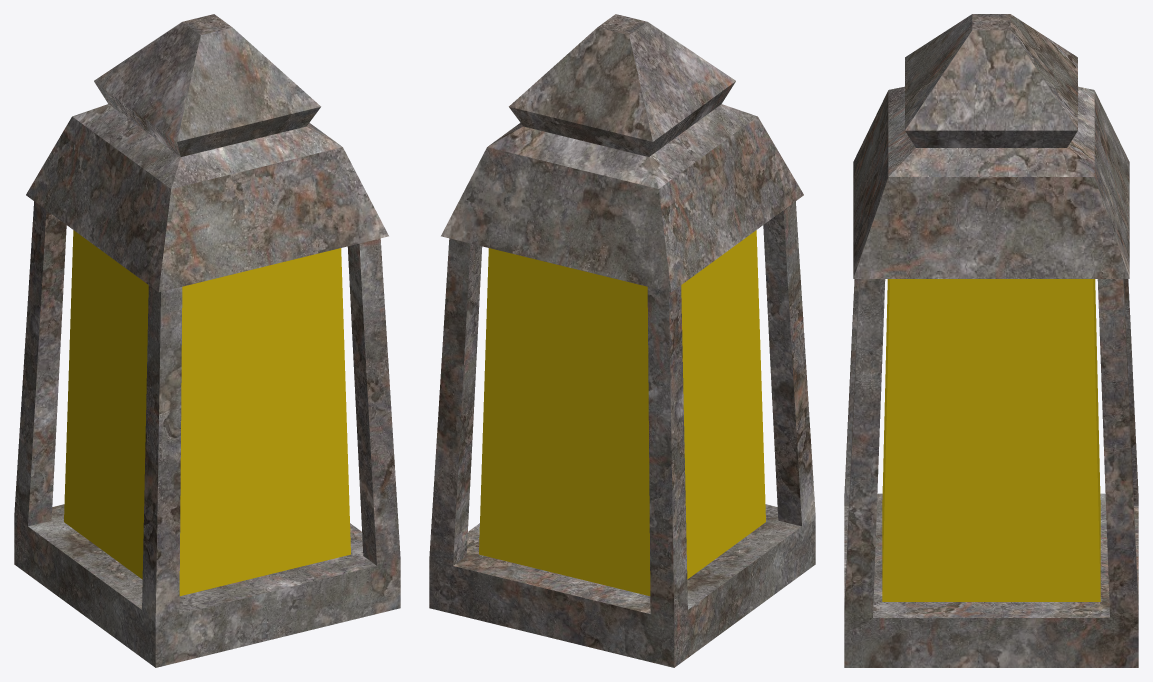
Rendered from lantern.fbx.
3 views of the same model, side by side, from view 1: azimuth 30°, elevation 25°; view 2: azimuth 150°, elevation 25°; view 3: azimuth 270°, elevation 25° (orthographic). The views are drawn at different scales.
Visible parts, largest first — view 1: Body, Light; view 2: Body, Light; view 3: Body, Light.
Part boxes in pixels (x1,y1,x2,y2): Body: (14,14,400,667); Light: (64,230,350,596); Body: (429,14,815,667); Light: (479,230,765,596); Body: (844,14,1138,667); Light: (882,279,1100,601).
Bounding box in the file's own units: 99.06 × 217 × 99.06.
